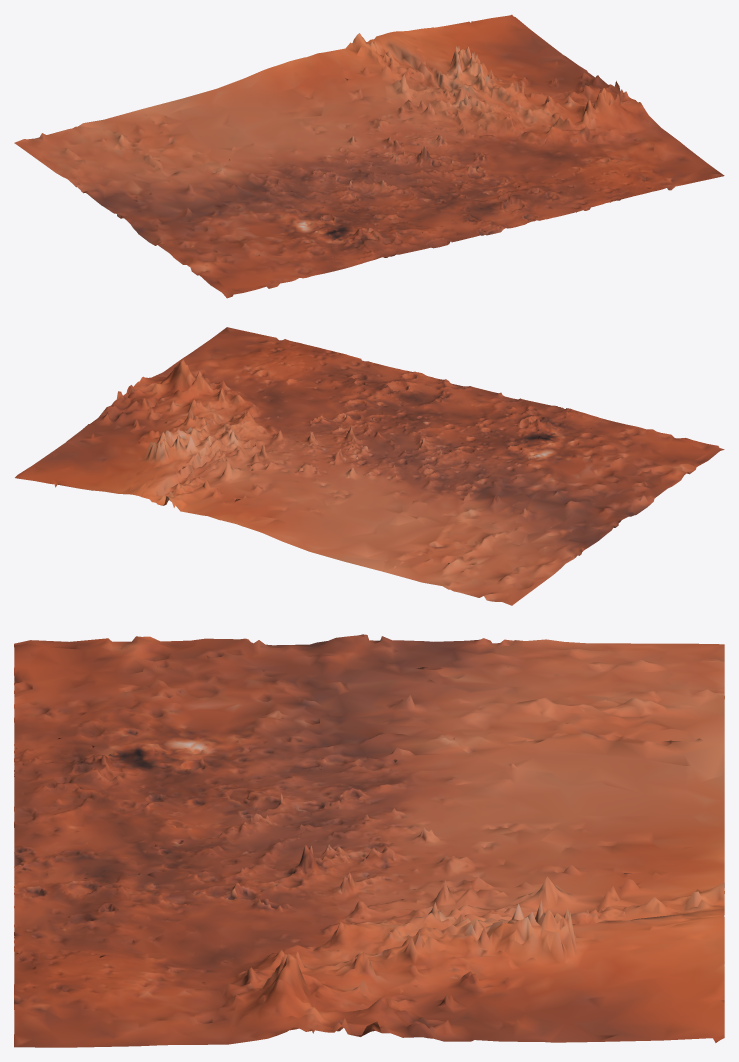
Rendered from Mars_Terrain3.fbx.
3 renders of one model, top to bottom at view 1: azimuth 30°, elevation 25°; view 2: azimuth 150°, elevation 25°; view 3: azimuth 270°, elevation 25°, orthographic. The views are drawn at different scales.
Visible parts, largest first — view 1: Plane.002; view 2: Plane.002; view 3: Plane.002.
Boxes of the visible parts, left/top/right/bottom form: Plane.002: left=14, top=14, right=724, bottom=298; Plane.002: left=15, top=327, right=724, bottom=605; Plane.002: left=14, top=634, right=724, bottom=1047.
Bounding box in the file's own units: 36.97 × 2.8 × 27.36.
